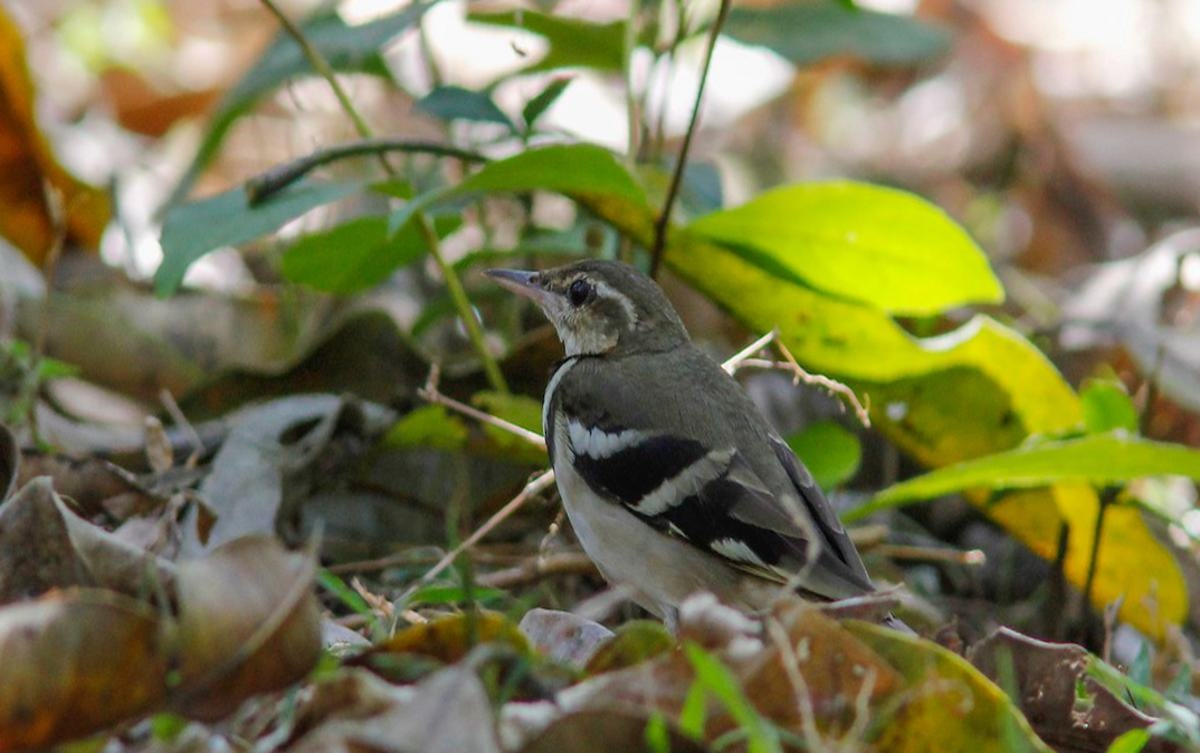wagtail: (471, 227, 878, 658)
